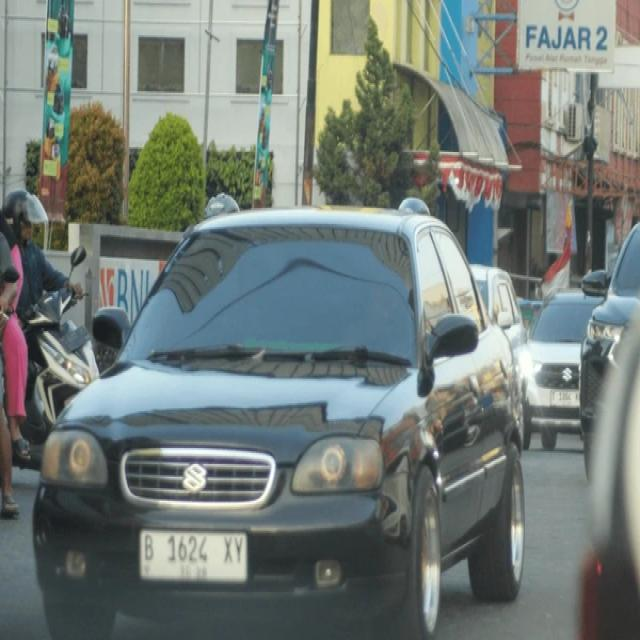suzuki: (178, 461, 210, 504)
